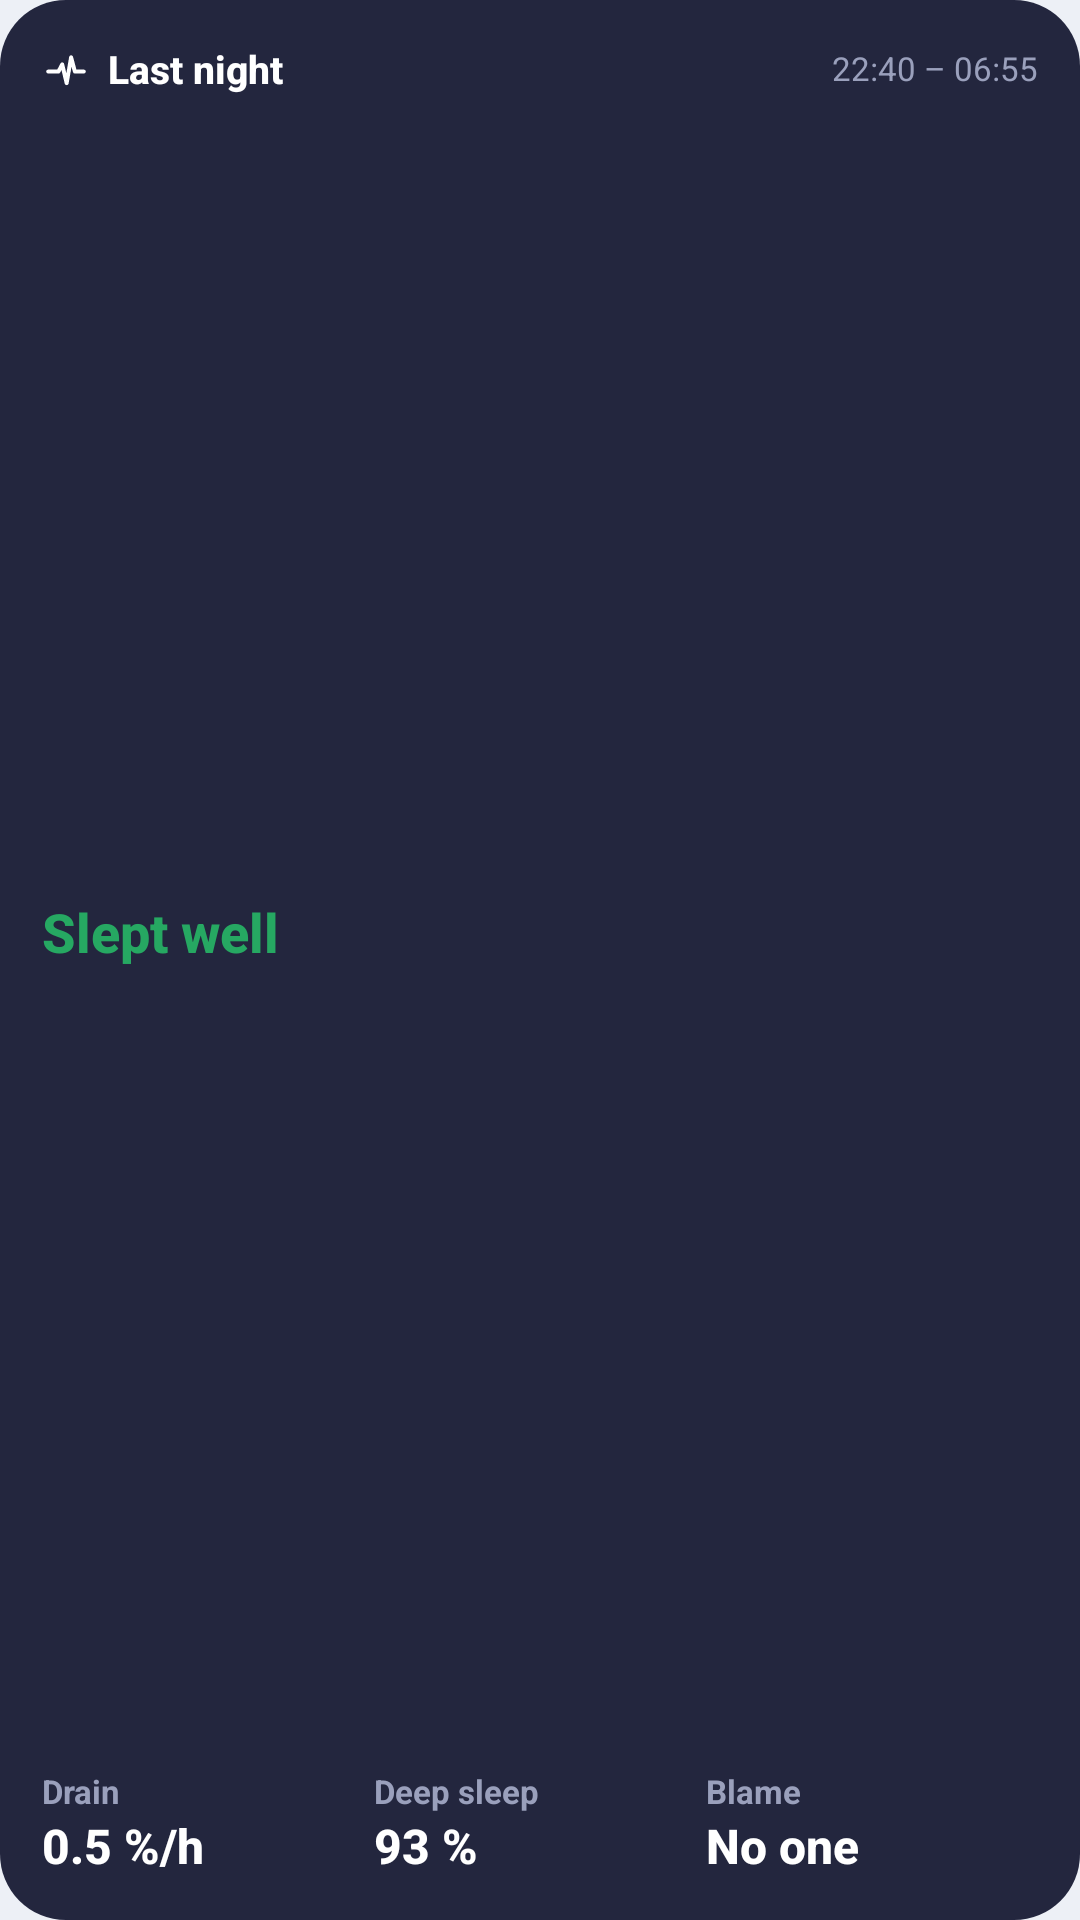

Named icons in this screenshot (1080 x 1920) and their bounding boxes, (x1, y1, x2, y2):
pulse: (46, 55, 86, 85)
